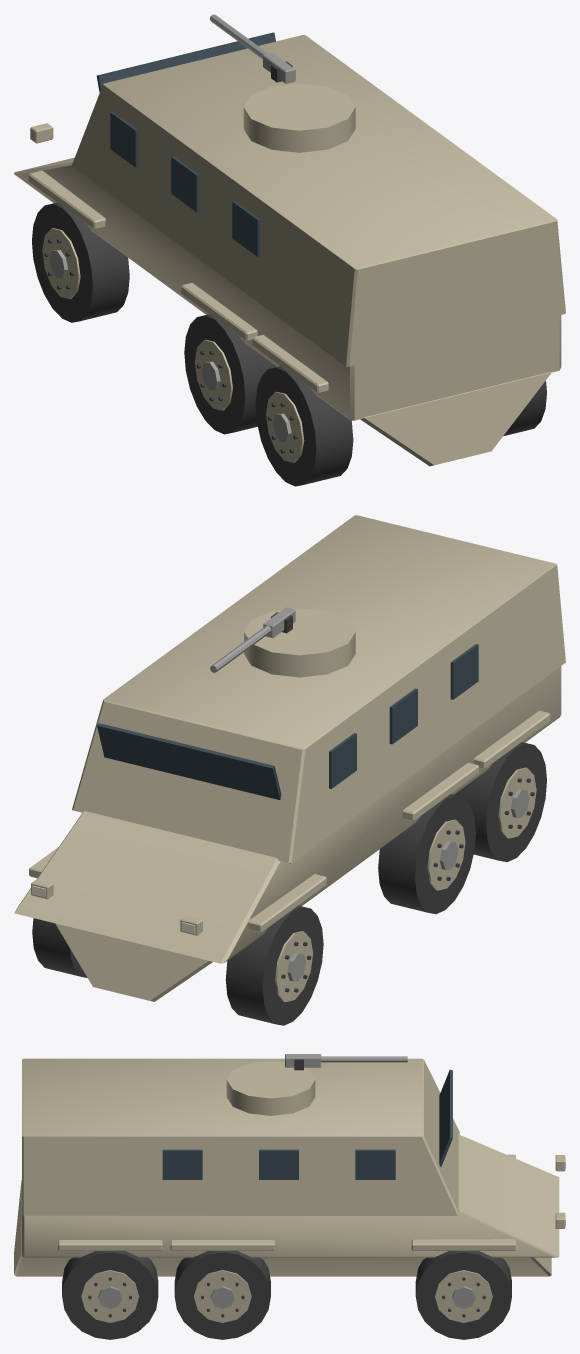
Rendered from usa_mrap_cou6.glb.
The picture shows the model from 3 angles, top to bottom: view 1: azimuth 30°, elevation 25°; view 2: azimuth 150°, elevation 25°; view 3: azimuth 270°, elevation 25°; orthographic projection. The views are drawn at different scales.
Visible parts, largest first — view 1: body, wheel_4, wheel_0, wheel_2, turret, barrel, wheel_5; view 2: body, wheel_0, wheel_2, wheel_4, turret, wheel_1, barrel; view 3: body, wheel_5, wheel_1, wheel_3, turret, barrel.
Boxes of the visible parts, left/top/right/bottom form: body: left=14, top=32, right=565, bottom=466; wheel_4: left=255, top=366, right=353, bottom=486; wheel_0: left=32, top=202, right=129, bottom=322; wheel_2: left=184, top=314, right=276, bottom=434; turret: left=243, top=83, right=355, bottom=152; barrel: left=210, top=14, right=295, bottom=83; wheel_5: left=503, top=381, right=546, bottom=435; body: left=14, top=515, right=565, bottom=1001; wheel_0: left=225, top=905, right=323, bottom=1025; wheel_2: left=378, top=794, right=475, bottom=914; wheel_4: left=454, top=742, right=546, bottom=861; turret: left=244, top=608, right=355, bottom=677; wheel_1: left=32, top=918, right=87, bottom=977; barrel: left=210, top=607, right=295, bottom=672; body: left=14, top=1058, right=565, bottom=1276; wheel_5: left=62, top=1251, right=158, bottom=1339; wheel_1: left=415, top=1251, right=511, bottom=1339; wheel_3: left=174, top=1251, right=270, bottom=1339; turret: left=226, top=1061, right=315, bottom=1115; barrel: left=285, top=1054, right=407, bottom=1070.
Bounding box in the file's own units: 2.74 × 3.29 × 6.87.
